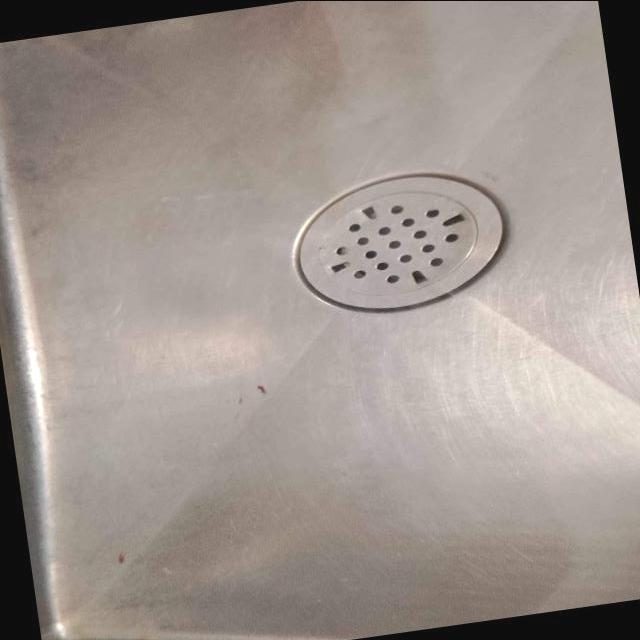Pathological: (1, 1, 637, 637)
Sharps: (290, 170, 505, 312)
